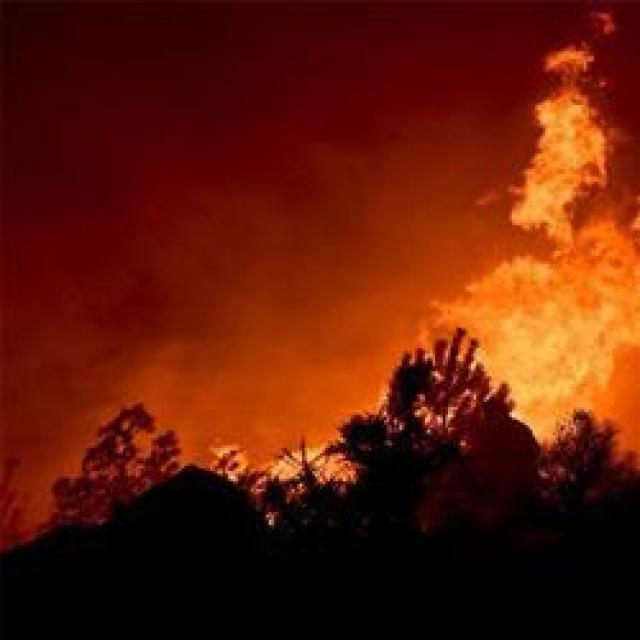fire: (483, 274, 592, 371), (563, 236, 640, 336), (514, 348, 564, 413), (544, 112, 594, 176), (522, 177, 570, 224)
